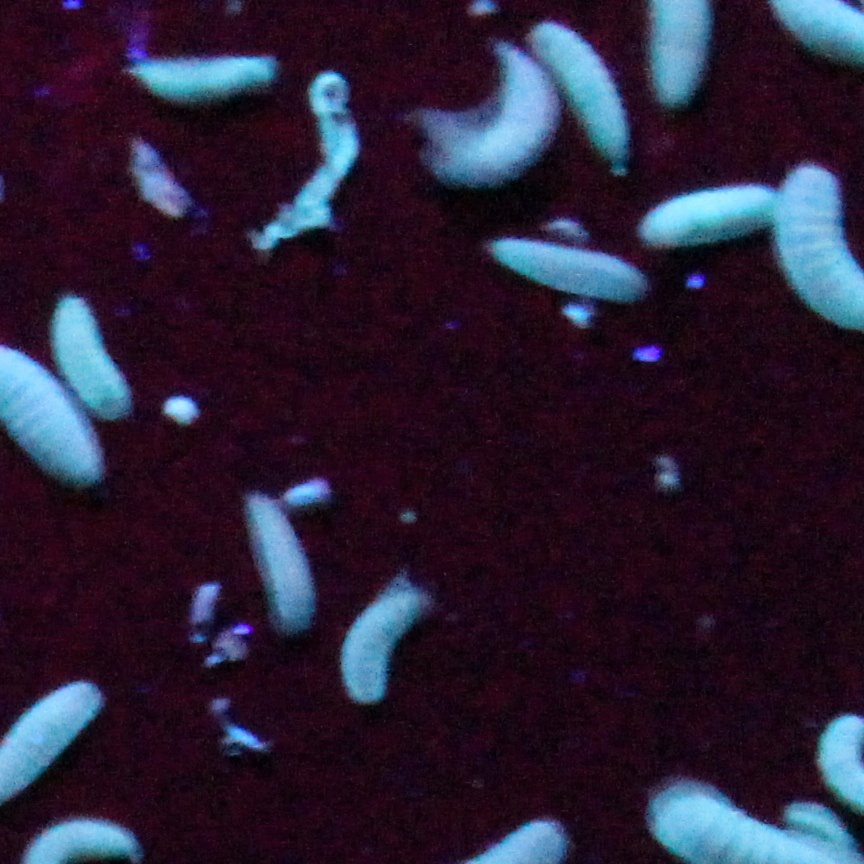larve: (432, 59, 547, 176), (530, 25, 622, 160), (243, 478, 321, 632), (489, 232, 641, 305), (50, 291, 129, 421), (636, 181, 775, 244), (354, 580, 416, 712), (133, 64, 281, 100)
